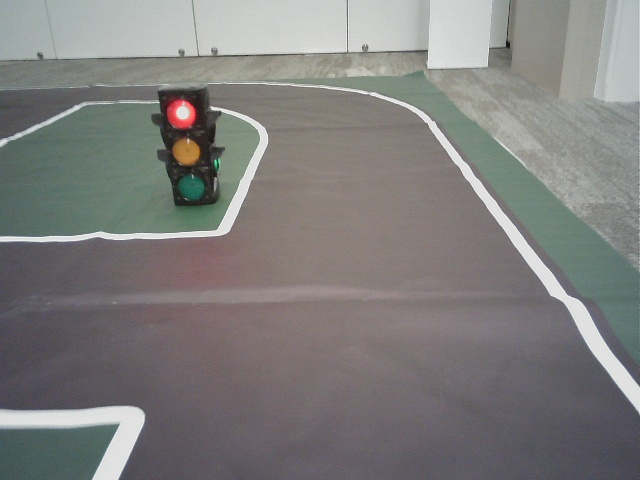red: (163, 94, 210, 198)
